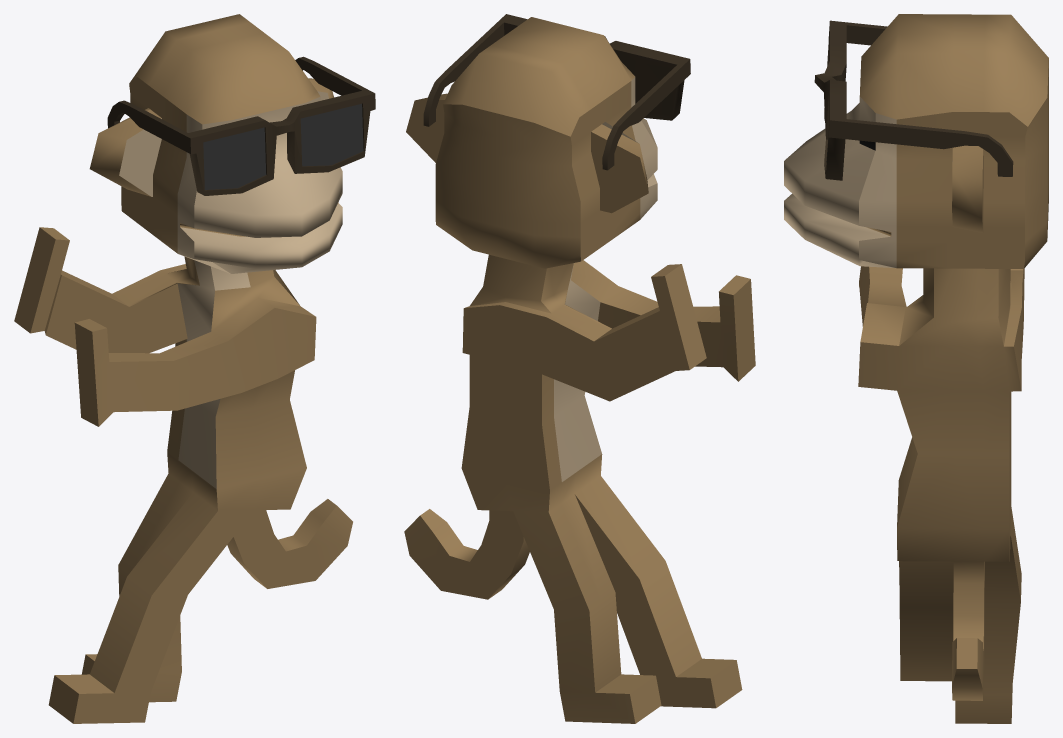
File: monkey.fbx
The picture shows the model from 3 angles, left to right: view 1: azimuth 30°, elevation 25°; view 2: azimuth 150°, elevation 25°; view 3: azimuth 270°, elevation 25°; orthographic projection. The views are drawn at different scales.
Parts seen in each view (by area): view 1: pCube2; view 2: pCube2; view 3: pCube2.
Part boxes in pixels (<box>): pCube2: <box>14,14,375,723</box>; pCube2: <box>404,14,755,723</box>; pCube2: <box>784,14,1048,723</box>.
Bounding box in the file's own units: 5.47 × 10.97 × 3.67.
